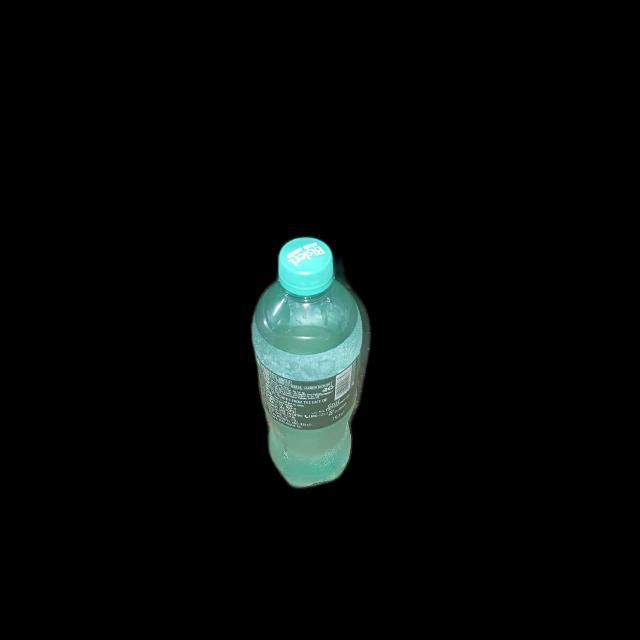Bisleri Club Soda - 750 ml: (244, 227, 368, 488)
